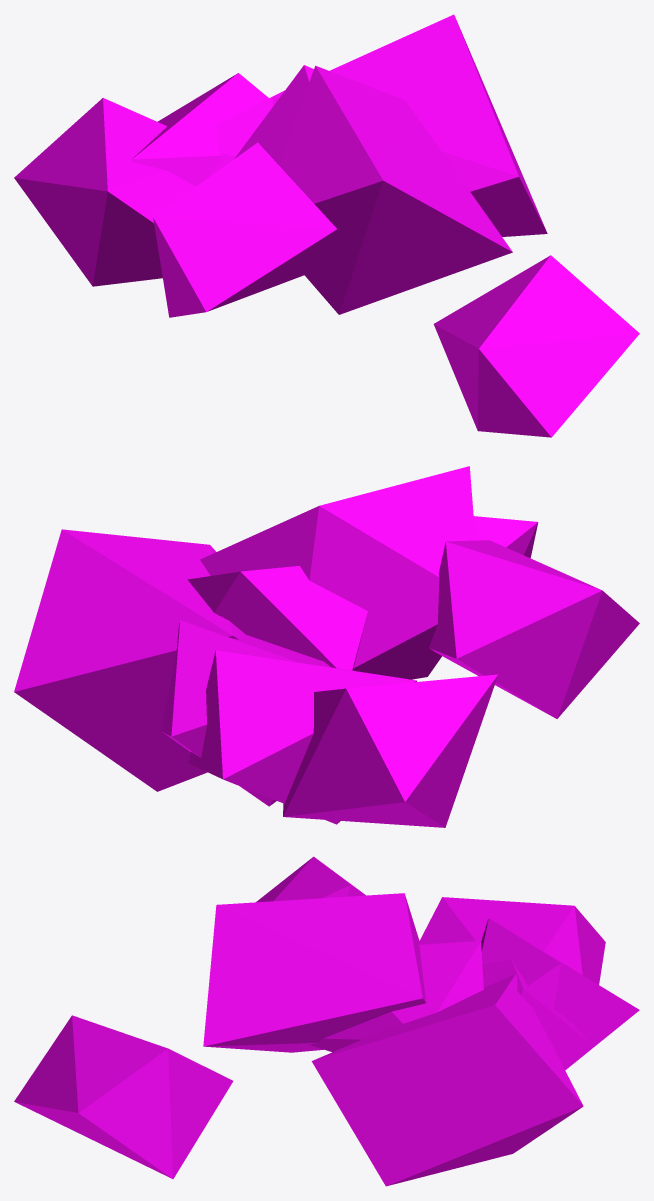
The model's file is objet_minerai.glb.
The picture shows the model from 3 angles, top to bottom: view 1: azimuth 30°, elevation 25°; view 2: azimuth 150°, elevation 25°; view 3: azimuth 270°, elevation 25°; orthographic projection. The views are drawn at different scales.
Parts seen in each view (by area): view 1: minerai_teinte.002; view 2: minerai_teinte.002; view 3: minerai_teinte.002.
Part boxes in pixels (x1,y1,x2,y2): minerai_teinte.002: (14, 14, 639, 437); minerai_teinte.002: (14, 466, 639, 827); minerai_teinte.002: (14, 856, 639, 1186).
Size of the model in its own units: 0.1667 by 0.0928 by 0.2293.
